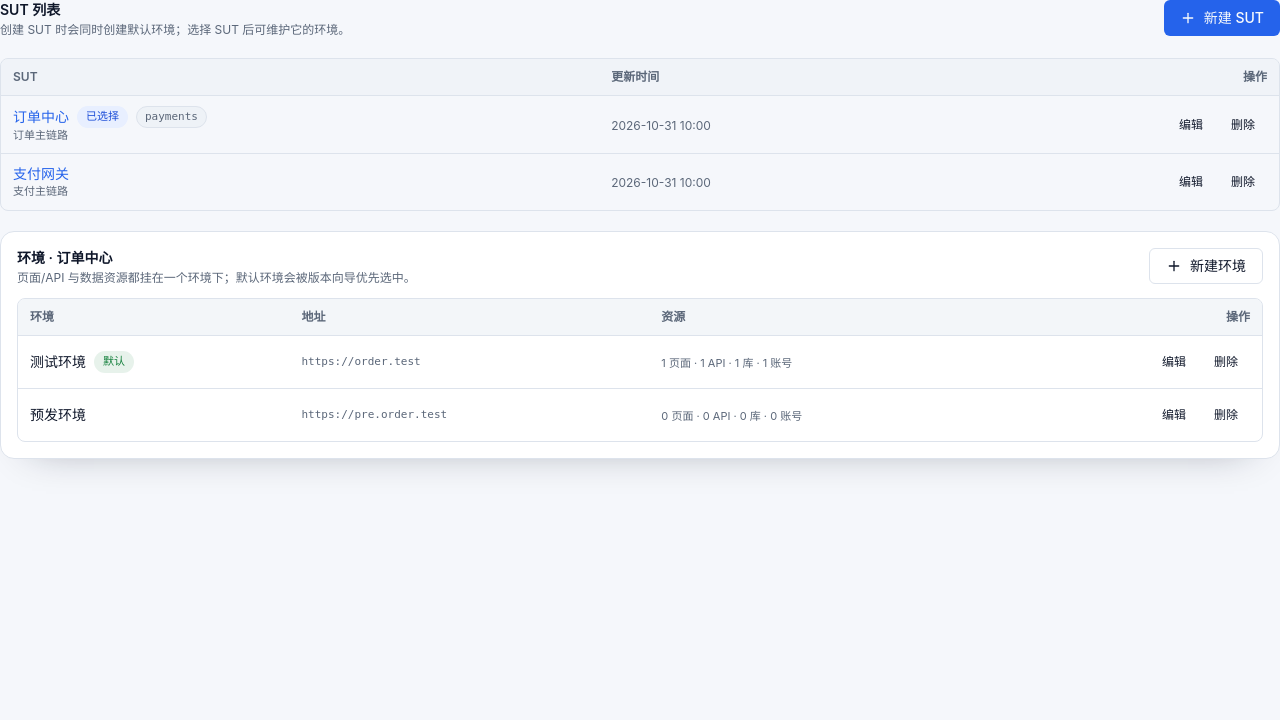
Test: SUTPanel › surfaces a 409 when a SUT cannot be deleted because a version references it
Click the button with aria-label "删除 SUT 订单中心".
click(1243, 125)  # box [1219, 109, 1267, 141]
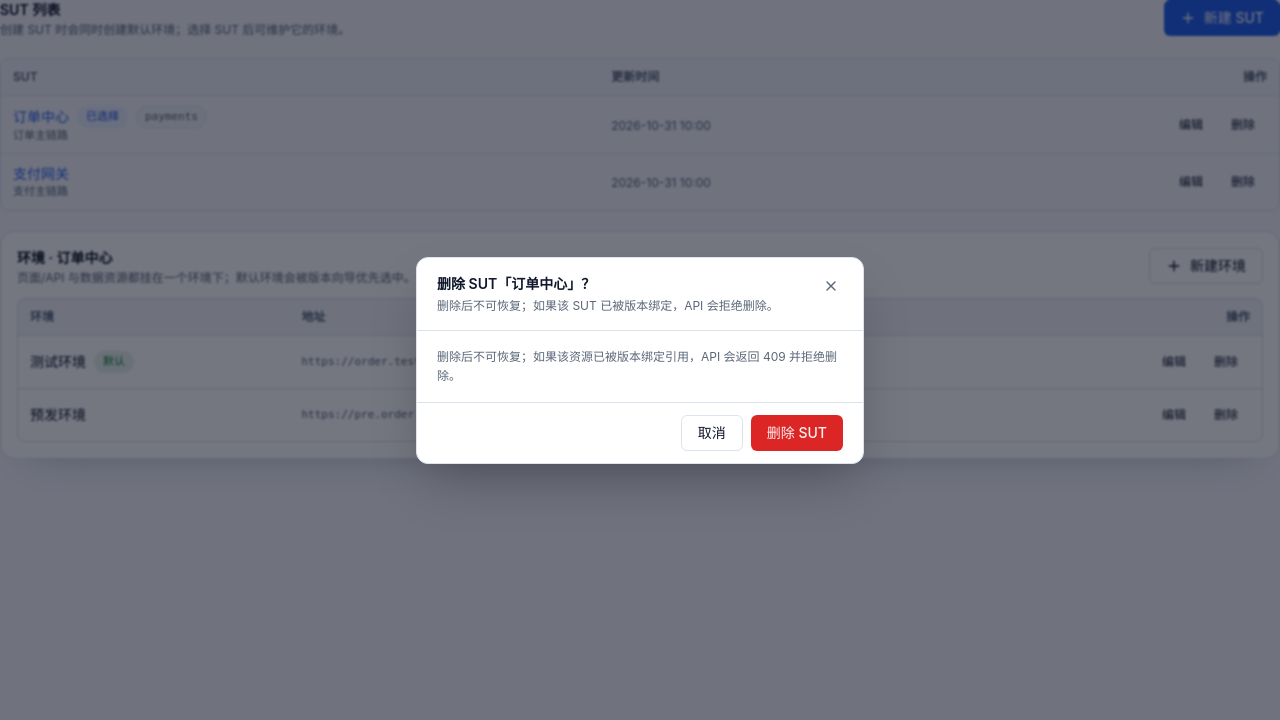
Click the button "删除 SUT".
click(797, 432)  # box [751, 414, 843, 450]
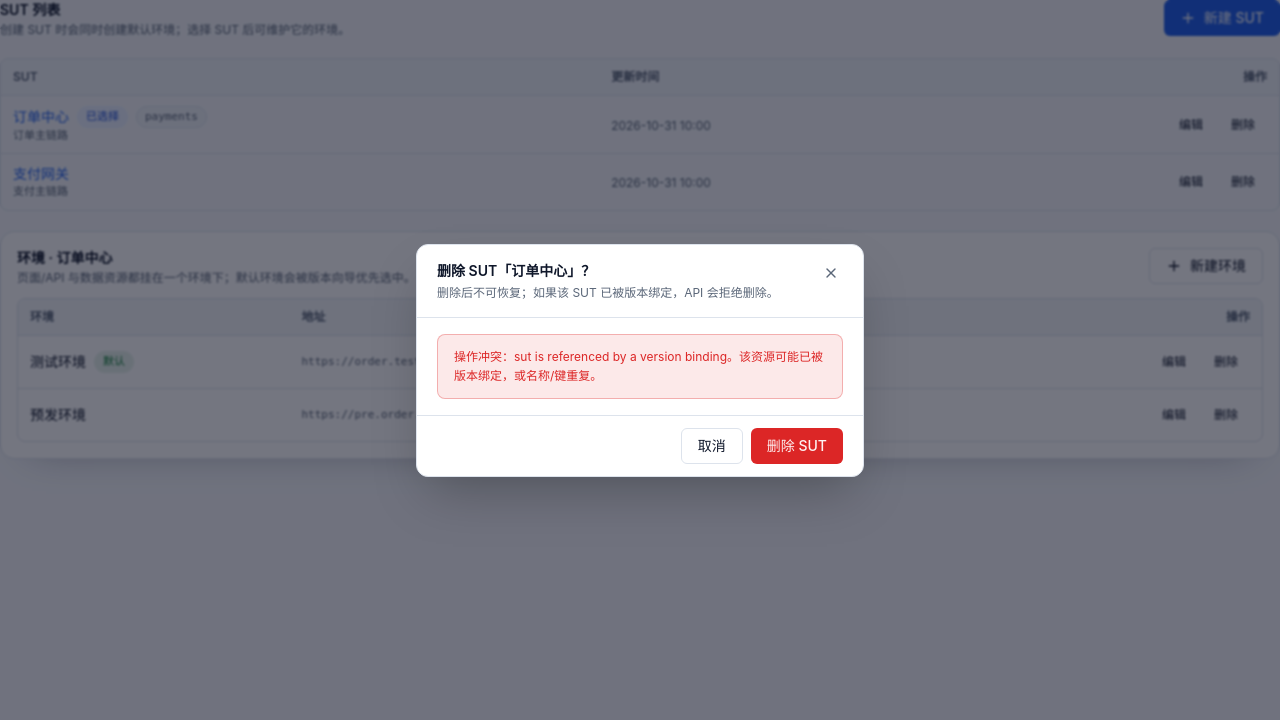
Now the dialog is shown, box [416, 244, 864, 476]
Now the text "操作冲突" is shown, box [454, 348, 823, 383]
